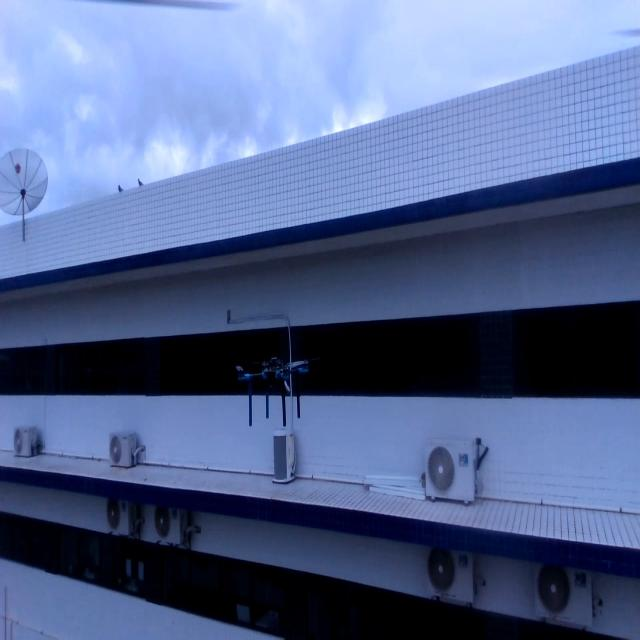-uav-: (222, 342, 334, 442)
